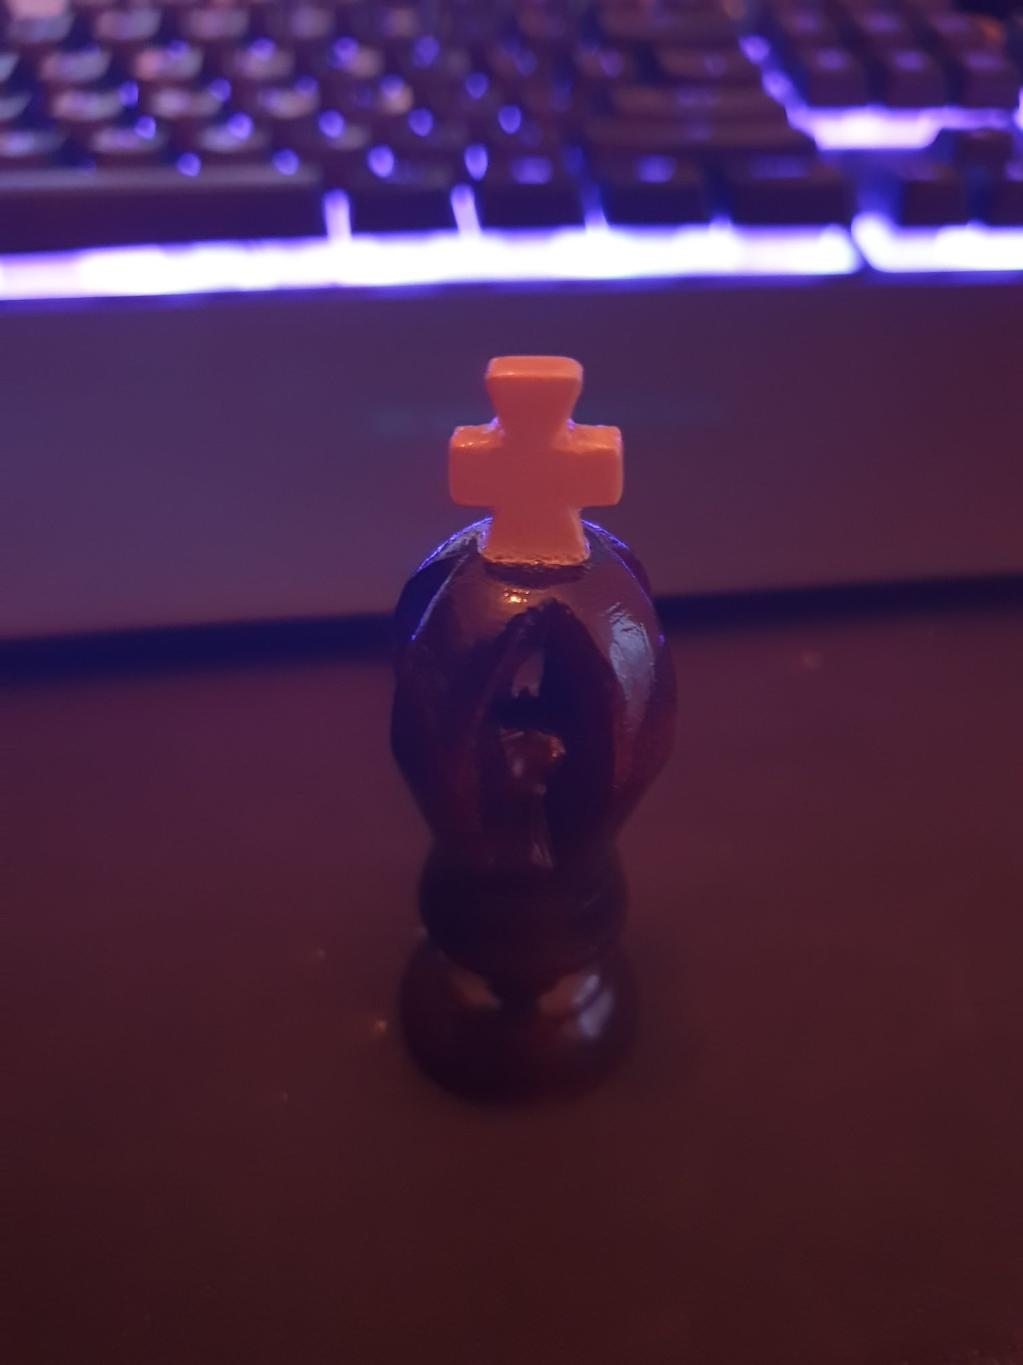bking: (389, 353, 679, 1107)
